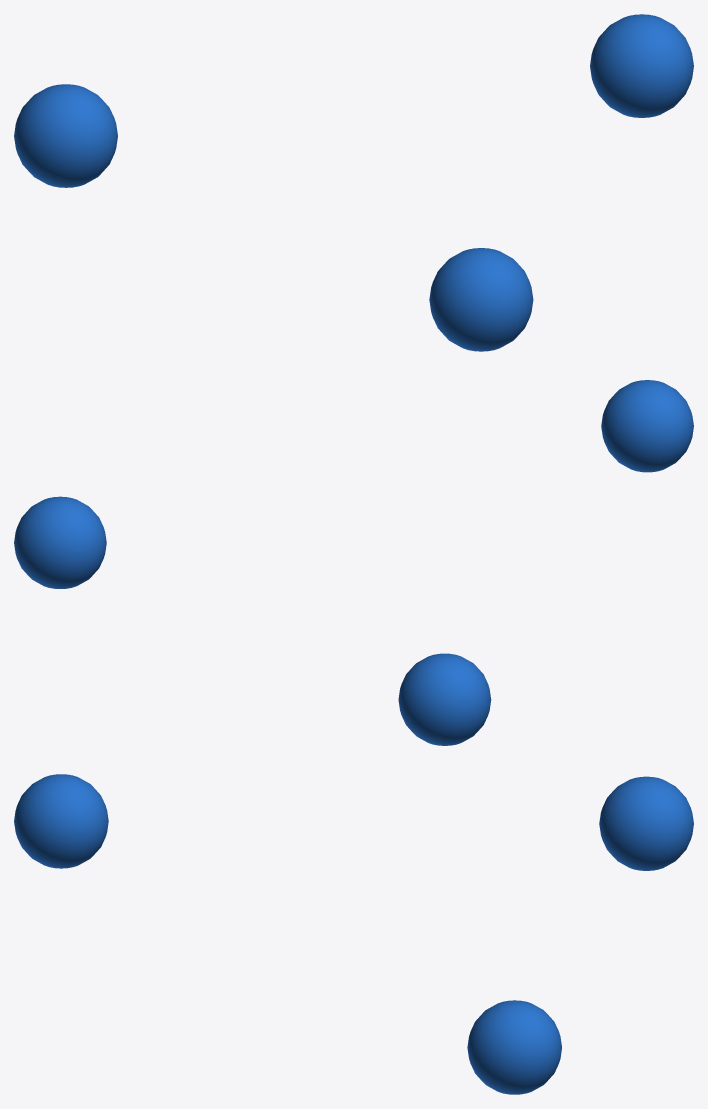
The model's file is pattern0.dae.
3 views of the same model, one above another, from view 1: azimuth 30°, elevation 25°; view 2: azimuth 150°, elevation 25°; view 3: azimuth 270°, elevation 25° (orthographic). The views are drawn at different scales.
Parts seen in each view (by area): view 1: Sphere.1, Sphere.2, Sphere; view 2: Sphere, Sphere.1, Sphere.2; view 3: Sphere.2, Sphere.1, Sphere.
Part boxes in pixels (x1,y1,x2,y2): Sphere.1: [14, 84, 117, 187]; Sphere.2: [590, 14, 693, 117]; Sphere: [429, 248, 533, 351]; Sphere: [601, 380, 693, 472]; Sphere.1: [398, 653, 491, 745]; Sphere.2: [14, 496, 106, 588]; Sphere.2: [467, 1000, 561, 1094]; Sphere.1: [599, 776, 693, 870]; Sphere: [14, 774, 108, 868].
Size of the model in its own units: 13.18 by 3.03 by 14.35.
